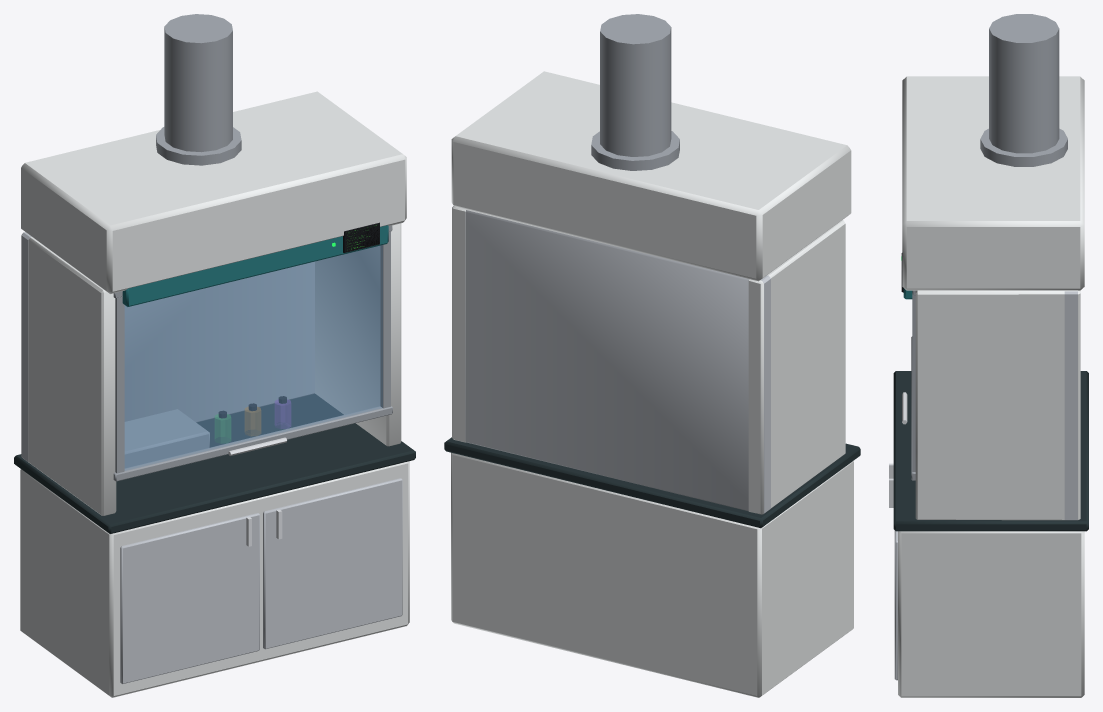
The model's file is labbench_fume_hood.glb.
The picture shows the model from 3 angles, left to right: view 1: azimuth 30°, elevation 25°; view 2: azimuth 150°, elevation 25°; view 3: azimuth 270°, elevation 25°; orthographic projection. The views are drawn at different scales.
Parts seen in each view (by area): view 1: labbench_fume_hood; view 2: labbench_fume_hood; view 3: labbench_fume_hood.
Boxes of the visible parts, x1,y1,x2,y2 form: labbench_fume_hood: (14,14,415,697); labbench_fume_hood: (444,14,860,697); labbench_fume_hood: (889,14,1088,697).
Size of the model in its own units: 1.64 by 3 by 0.911.
15 materials, 1 textured.
